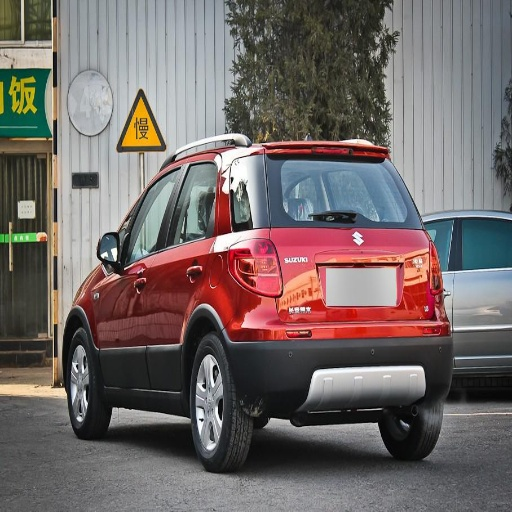back_bumper: (228, 330, 453, 414)
back_glass: (247, 155, 413, 225)
back_left_door: (147, 157, 230, 389)
trunk: (232, 226, 432, 363)
